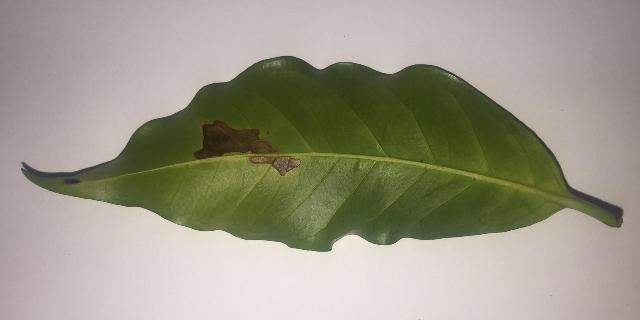cercospora: (193, 120, 300, 176), (65, 179, 78, 184)
